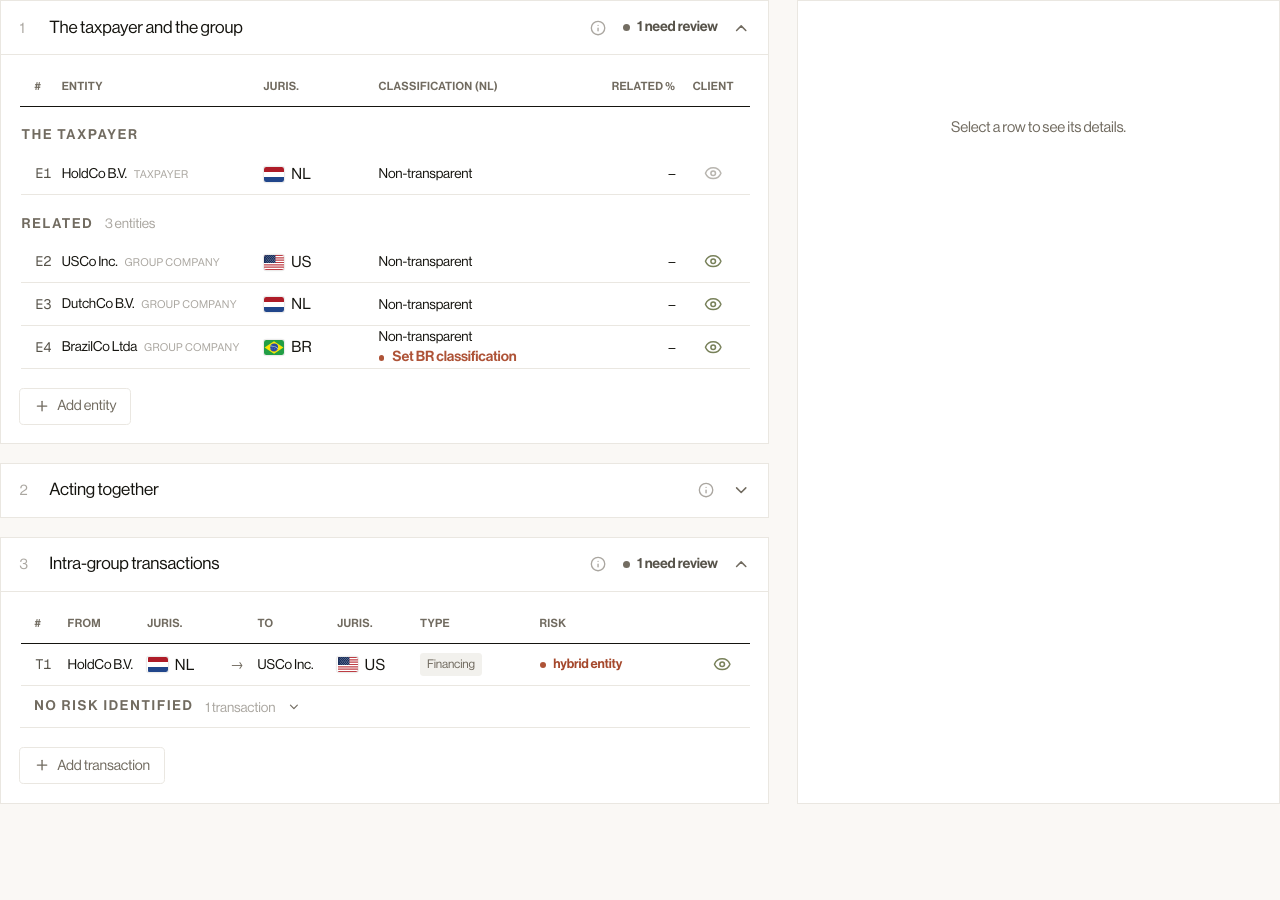
Test: FactsPanelV2 — resting state + master-detail (section 3) › expands the no-risk group on its toggle row
The width and height of the screenshot is (1280, 900).
Click the button "No risk identified 1 transaction".
click(167, 707)  # box [34,698,301,716]
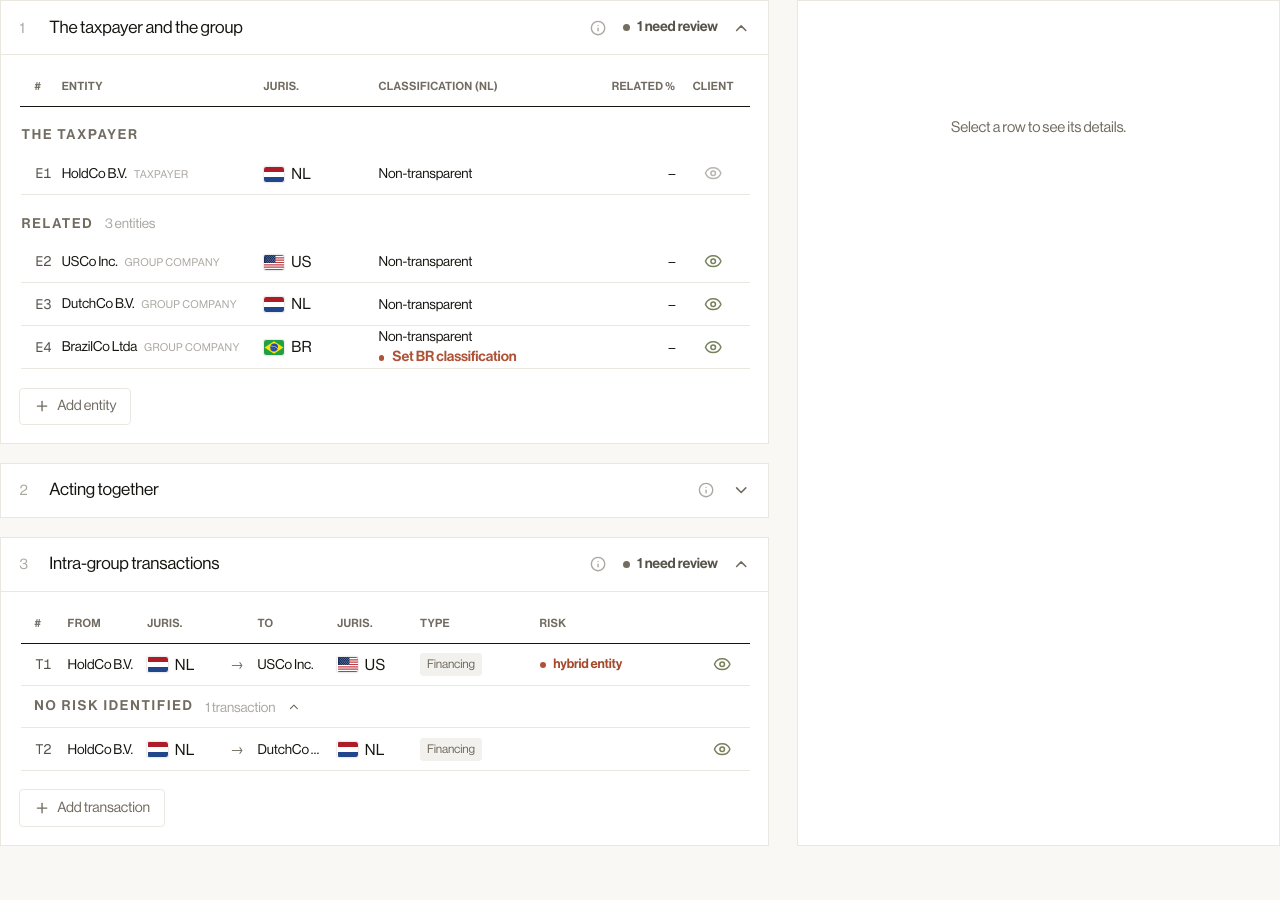
Check: the text "DutchCo B.V." is shown, box [256,728,336,770]
